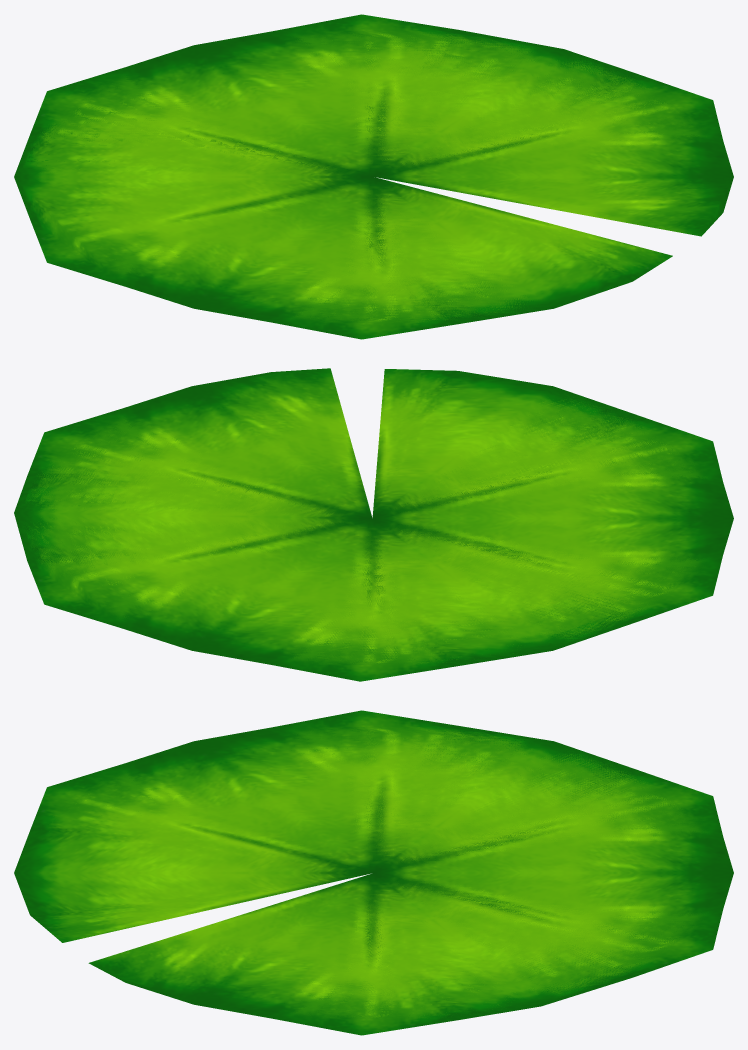
File: leaf-lotus-02.fbx
3 renders of one model, top to bottom at view 1: azimuth 30°, elevation 25°; view 2: azimuth 150°, elevation 25°; view 3: azimuth 270°, elevation 25°, orthographic.
Visible parts, largest first — view 1: leaf-lotus-02; view 2: leaf-lotus-02; view 3: leaf-lotus-02.
Part boxes in pixels (x1,y1,x2,y2): leaf-lotus-02: (14, 14, 733, 339); leaf-lotus-02: (14, 368, 733, 681); leaf-lotus-02: (14, 710, 733, 1035).
Size of the model in its own units: 642 by 7.38e-07 by 601.
